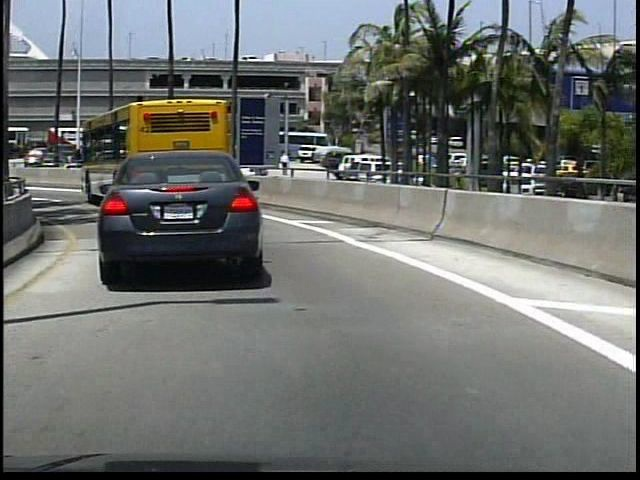person: (275, 151, 290, 182)
